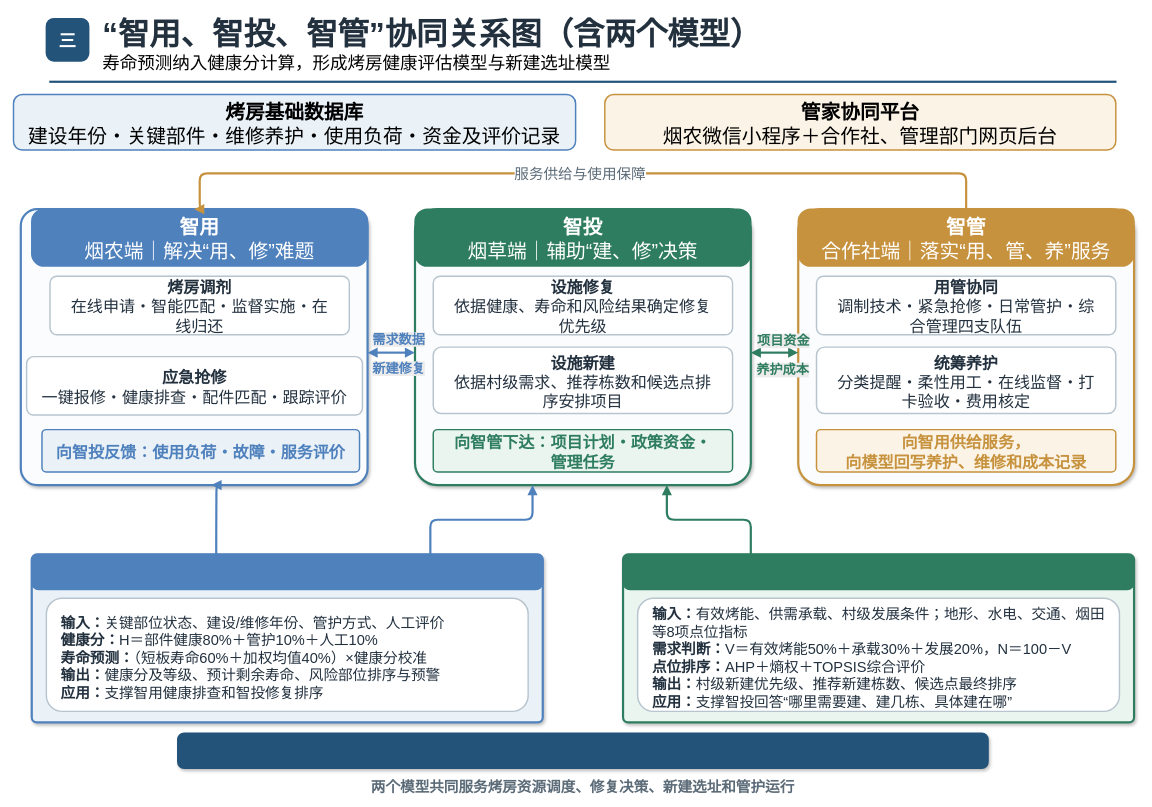
The diagram is 1152 pixels wide and 807 high, and some of its shapes have lost their labels. The centre of each missing label's shape, as x and y in pixels:
数据闭环： 业务办理和管护记录 → 基础数据库 → 两个模型计算 → 智用、智投、智管应用 → 结果持续回写: point 583,751
模型一｜烤房健康评估模型（健康分计算＋寿命预测）: point 287,571
模型二｜村级发展导引模型（需求判断＋候选点排序）: point 878,571
